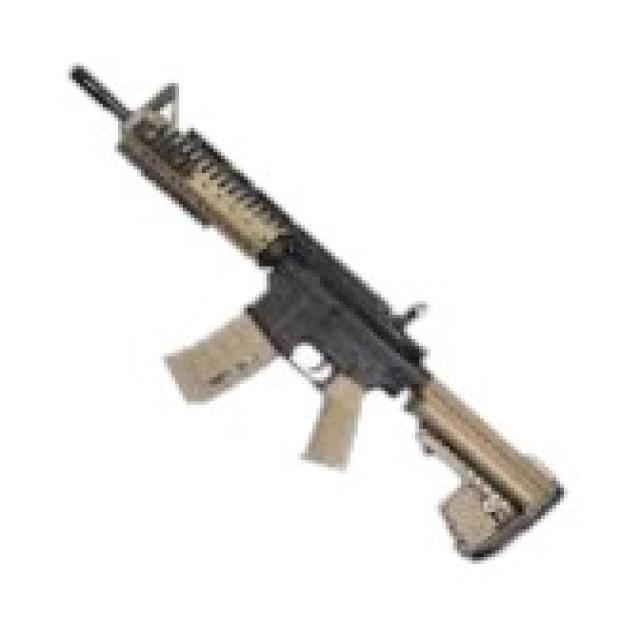rifle: (64, 56, 575, 569)
